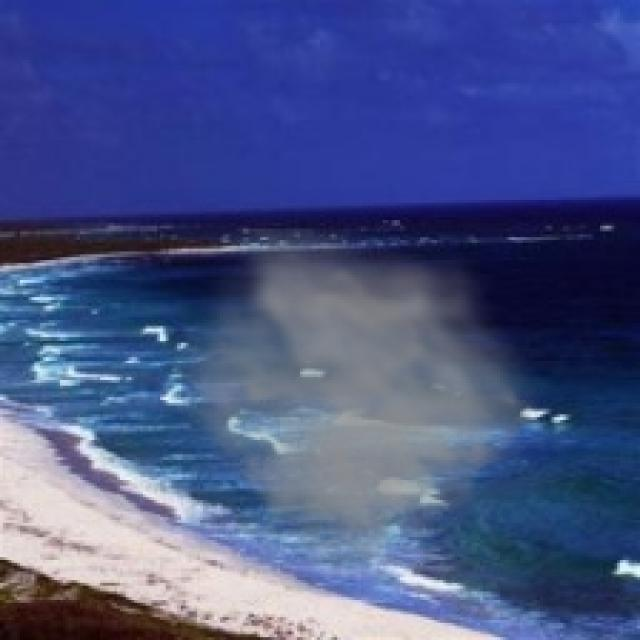smoke: (160, 228, 551, 603)
